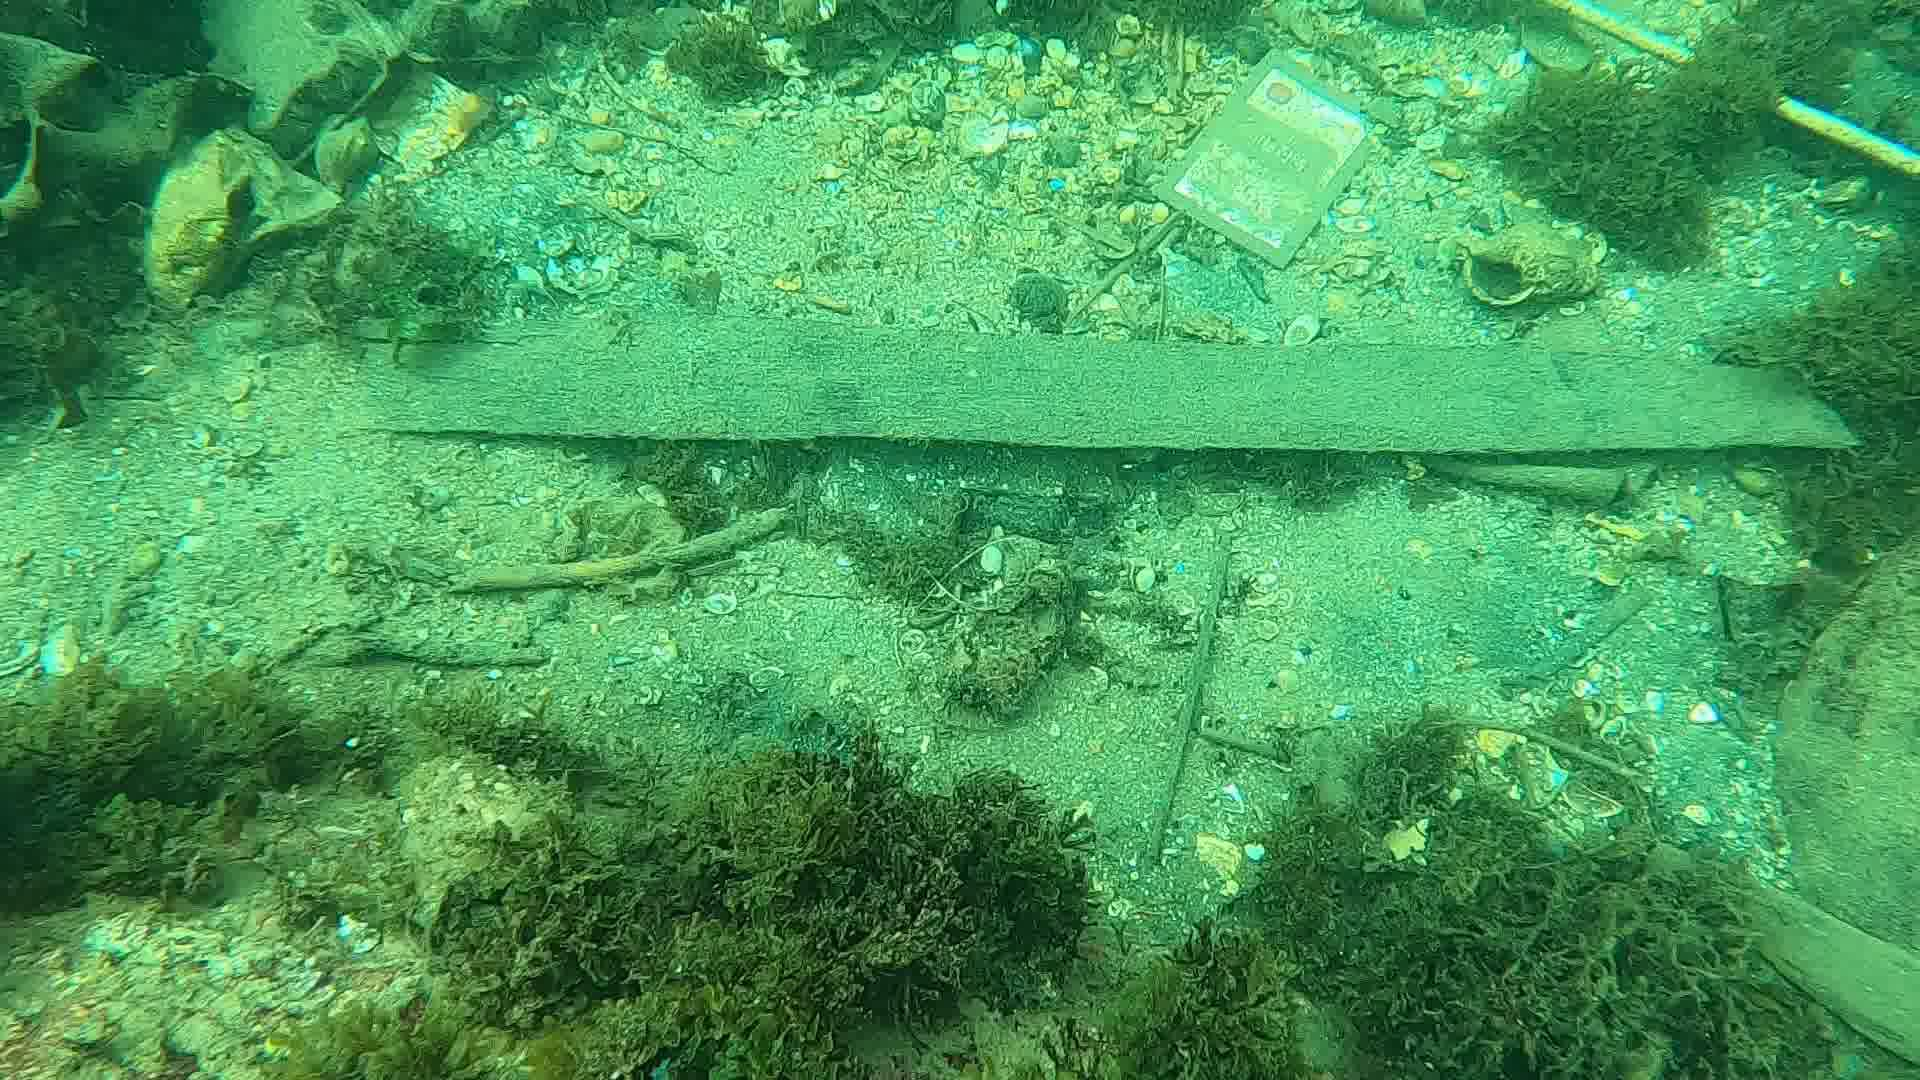wood: (369, 319, 1862, 452)
